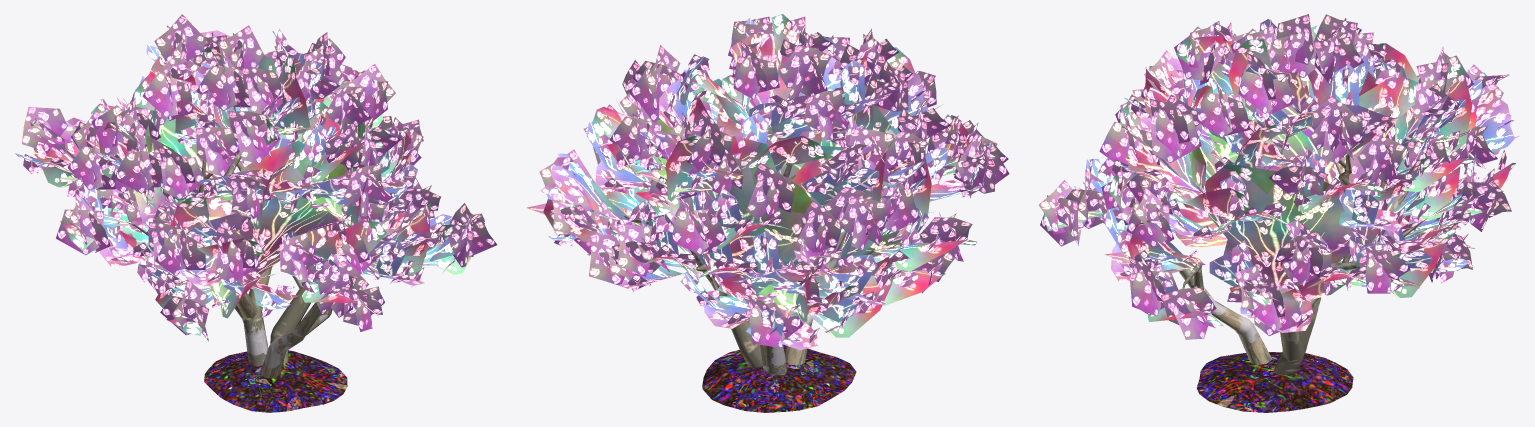
The model's file is magnolia_02_SM.fbx.
3 renders of one model, left to right at view 1: azimuth 30°, elevation 25°; view 2: azimuth 150°, elevation 25°; view 3: azimuth 270°, elevation 25°, orthographic. The views are drawn at different scales.
Parts seen in each view (by area): view 1: magnolia_02_SM_LOD0; view 2: magnolia_02_SM_LOD0; view 3: magnolia_02_SM_LOD0.
Boxes of the visible parts, x1,y1,x2,y2 form: magnolia_02_SM_LOD0: (15,14,497,412); magnolia_02_SM_LOD0: (527,14,1009,412); magnolia_02_SM_LOD0: (1039,14,1518,412).
Bounding box in the file's own units: 781 × 827 × 691.
Materials: 3 (3 with a texture image).
